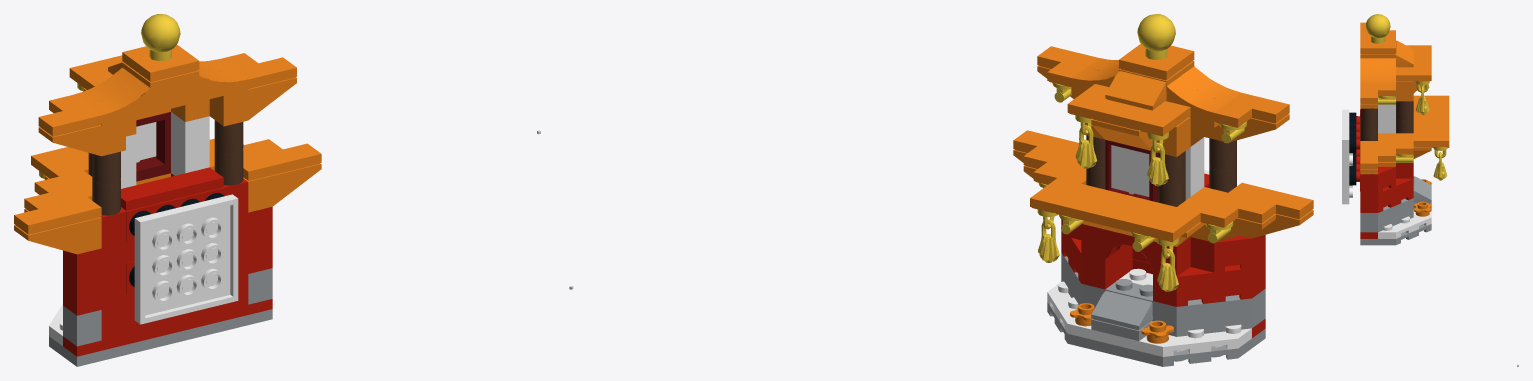
3 renders of one model, left to right at view 1: azimuth 30°, elevation 25°; view 2: azimuth 150°, elevation 25°; view 3: azimuth 270°, elevation 25°, orthographic. The views are drawn at different scales.
Visible parts, largest first — view 1: 魁星楼红黄; view 2: 魁星楼红黄; view 3: 魁星楼红黄.
Boxes of the visible parts, bbox=[...] form: 魁星楼红黄: bbox=[14, 14, 321, 366]; 魁星楼红黄: bbox=[1013, 14, 1313, 366]; 魁星楼红黄: bbox=[1342, 14, 1449, 245].
Size of the model in its own units: 521 by 249 by 198.
